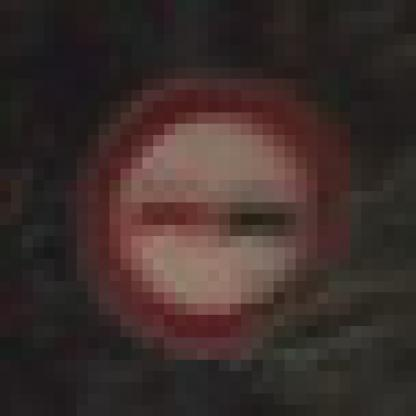No Overtaking: (67, 68, 362, 361)
